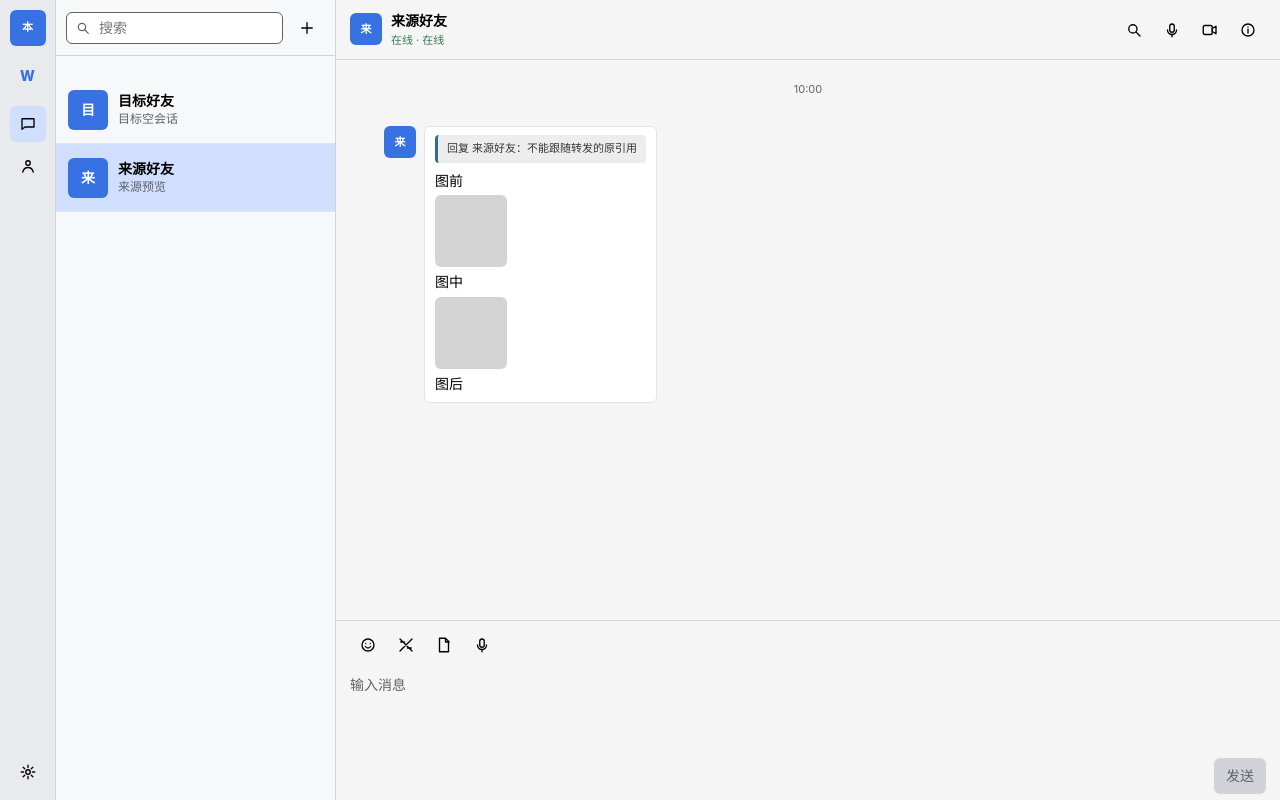
Test: forwarding through the authenticated shell and real messaging › prevents late sends after cancel during image authorization
Right-click the text "图前" at (449, 181), box top-left (435, 171), bottom-right (463, 190)
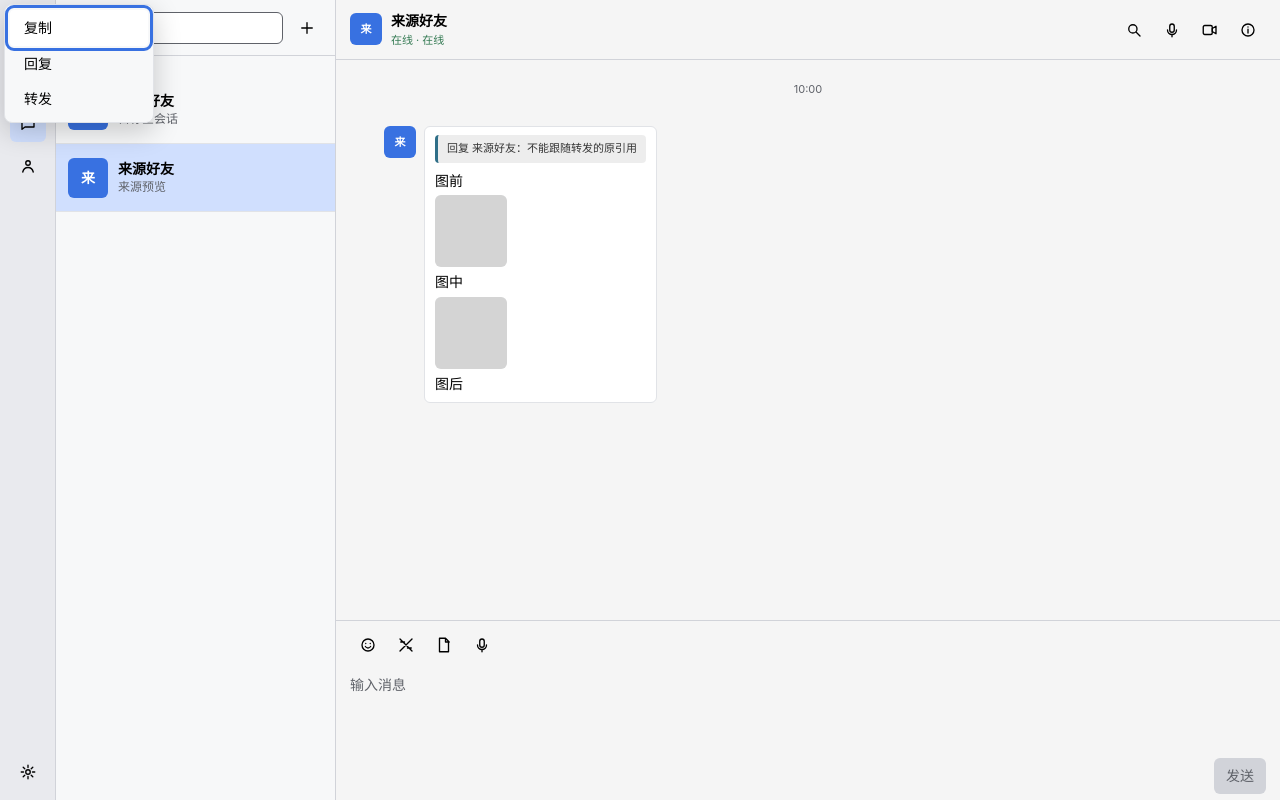
Click the menu item "转发" at (79, 99), box top-left (10, 81), bottom-right (148, 117)
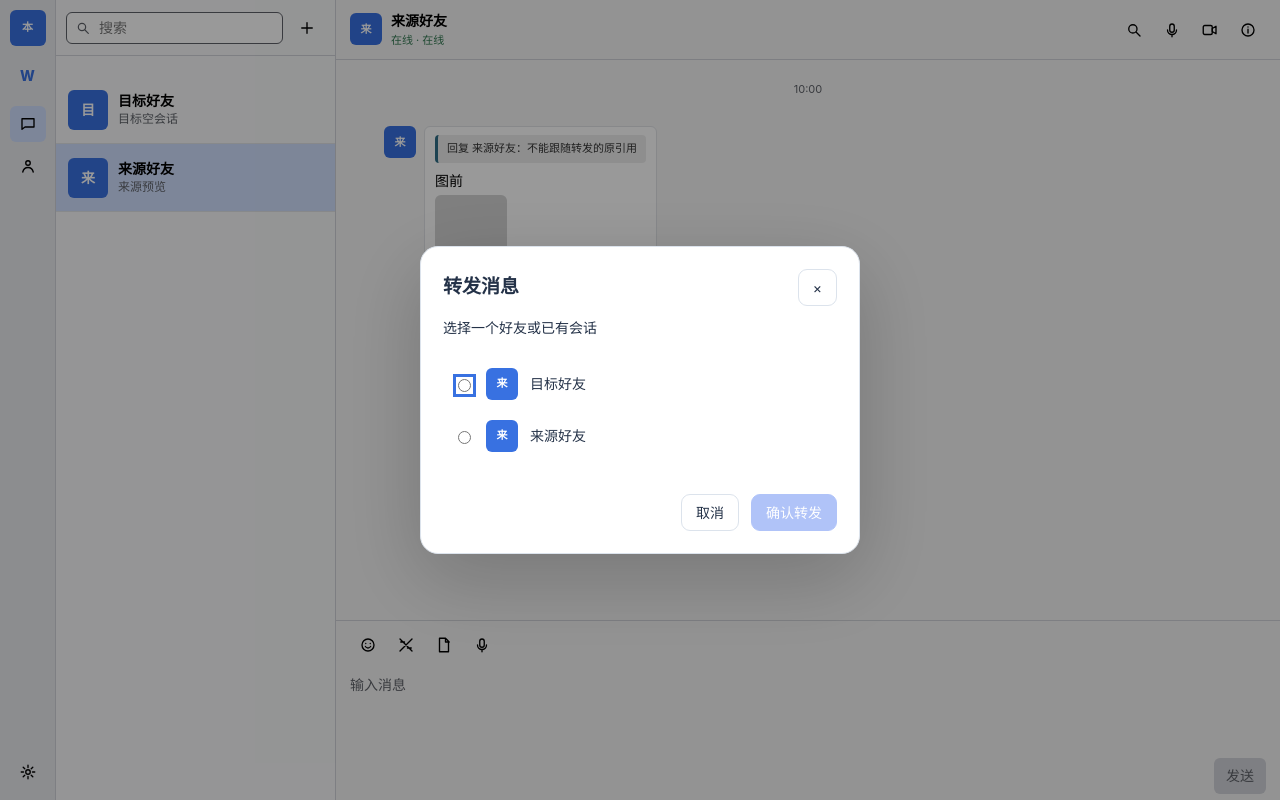
Click the radio button labelled "来 目标好友" at (464, 385), box top-left (458, 379), bottom-right (471, 392)
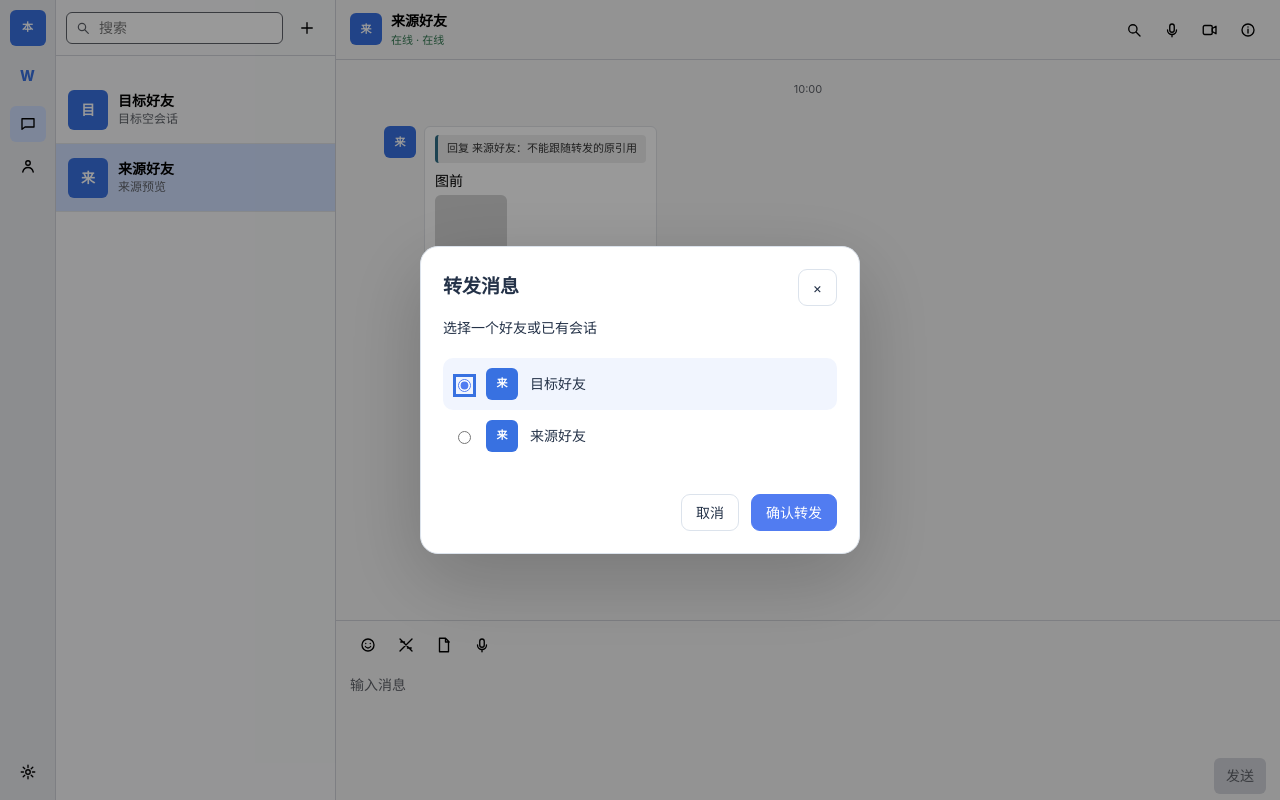
Click the button "确认转发" at (794, 513), box top-left (751, 494), bottom-right (837, 531)
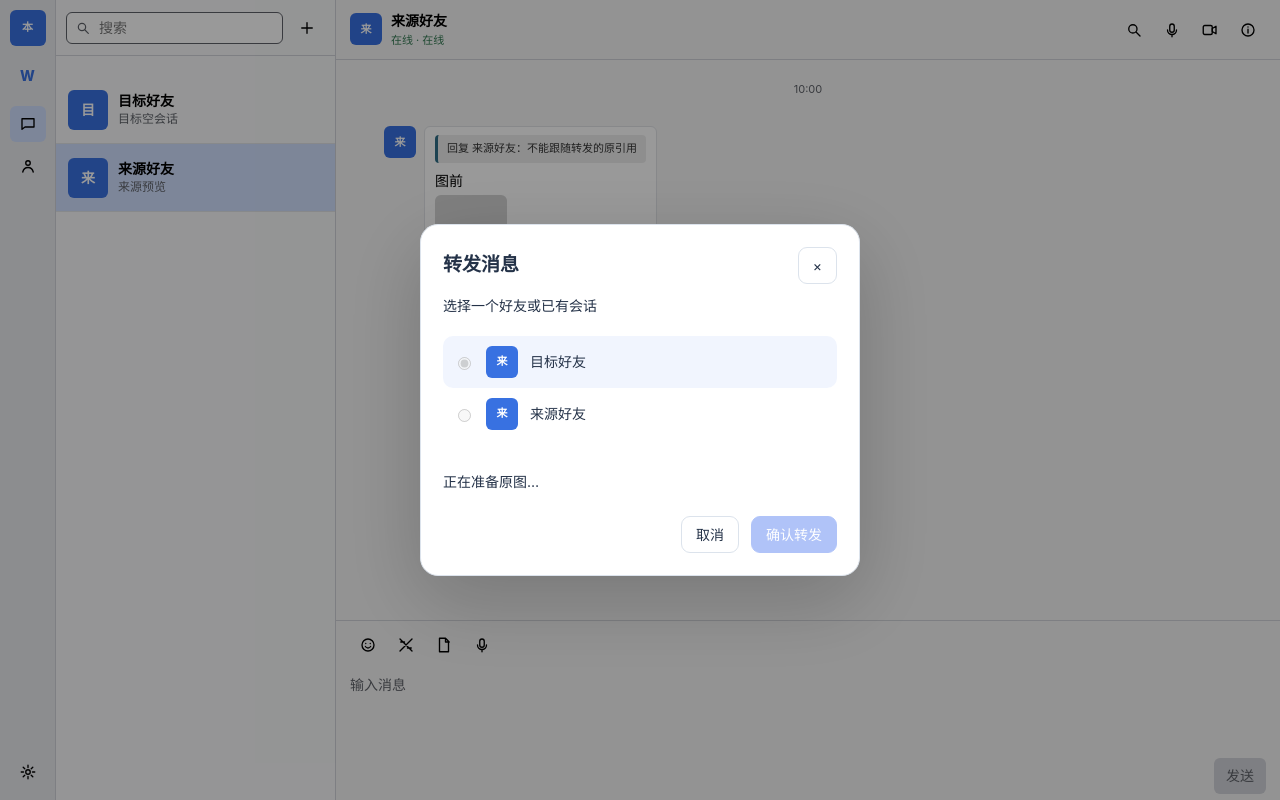
Click the button "取消" at (710, 534), box top-left (681, 516), bottom-right (739, 553)
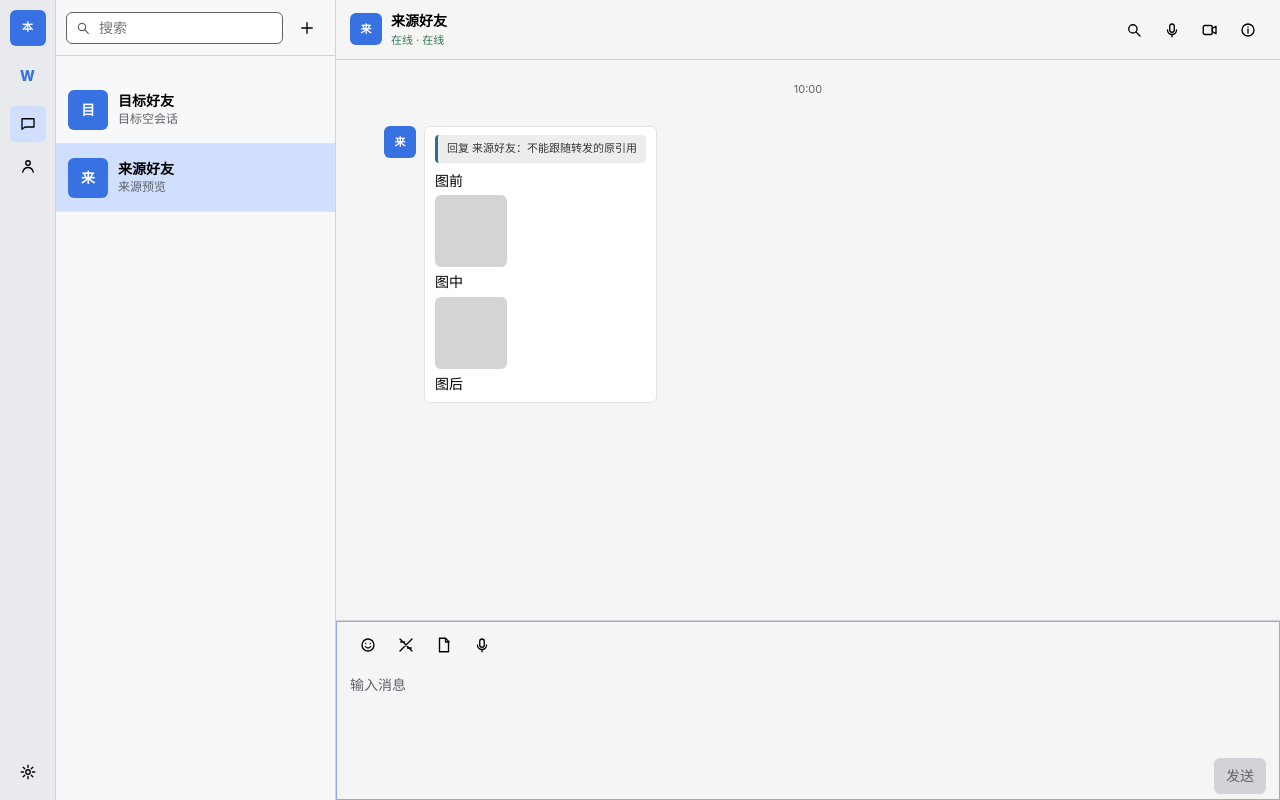
Expected: the text "图前" is shown, top-left (435, 171), bottom-right (463, 190)
Now the dialog is gone
